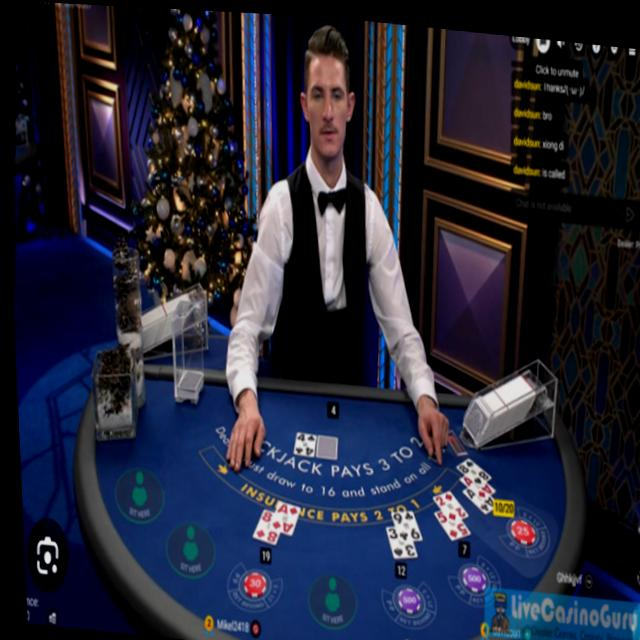Card-2: (428, 486, 464, 520)
Card-3: (381, 523, 412, 555)
Card-4: (290, 429, 313, 454)
Card-5: (430, 506, 467, 537)
Card-8: (452, 452, 488, 482), (247, 506, 275, 542)
Card-9: (386, 506, 418, 538)
Card-A: (265, 498, 296, 533), (458, 483, 494, 510), (455, 471, 492, 496)
